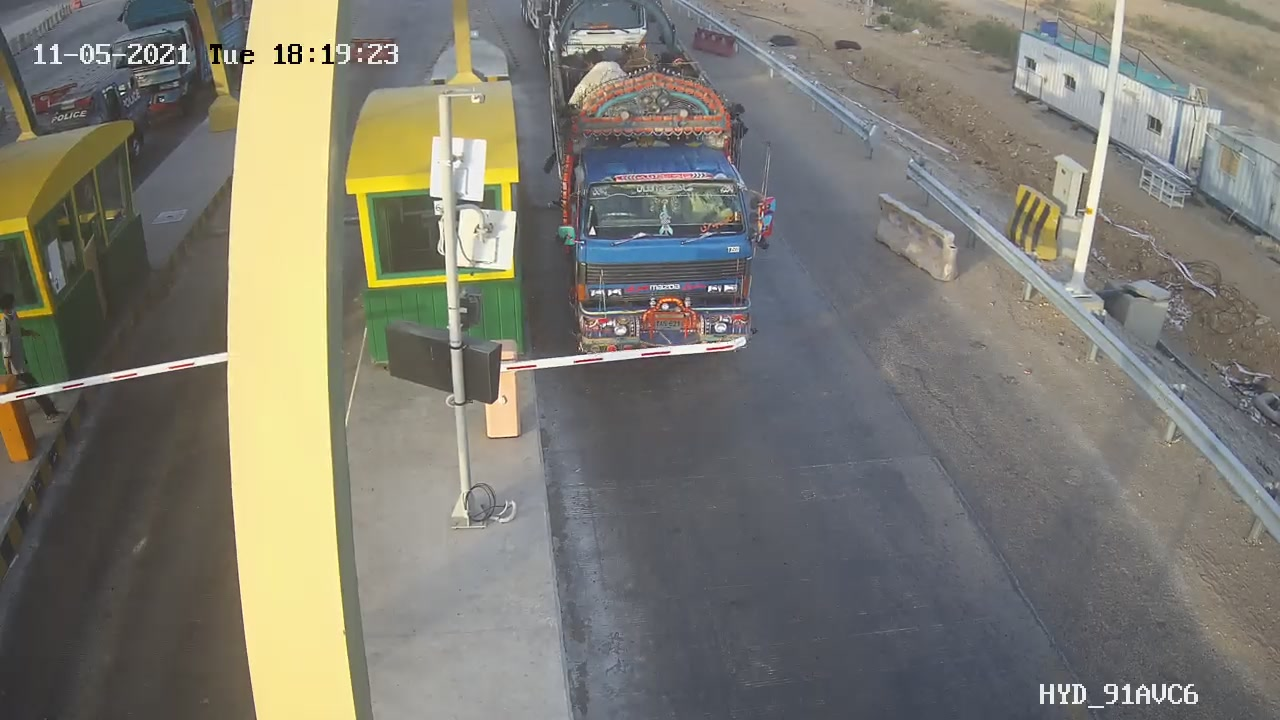F5: (540, 46, 791, 350)
